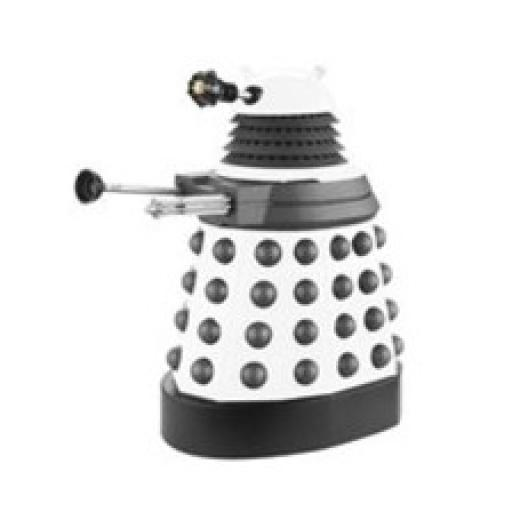dalek: (66, 57, 414, 457)
